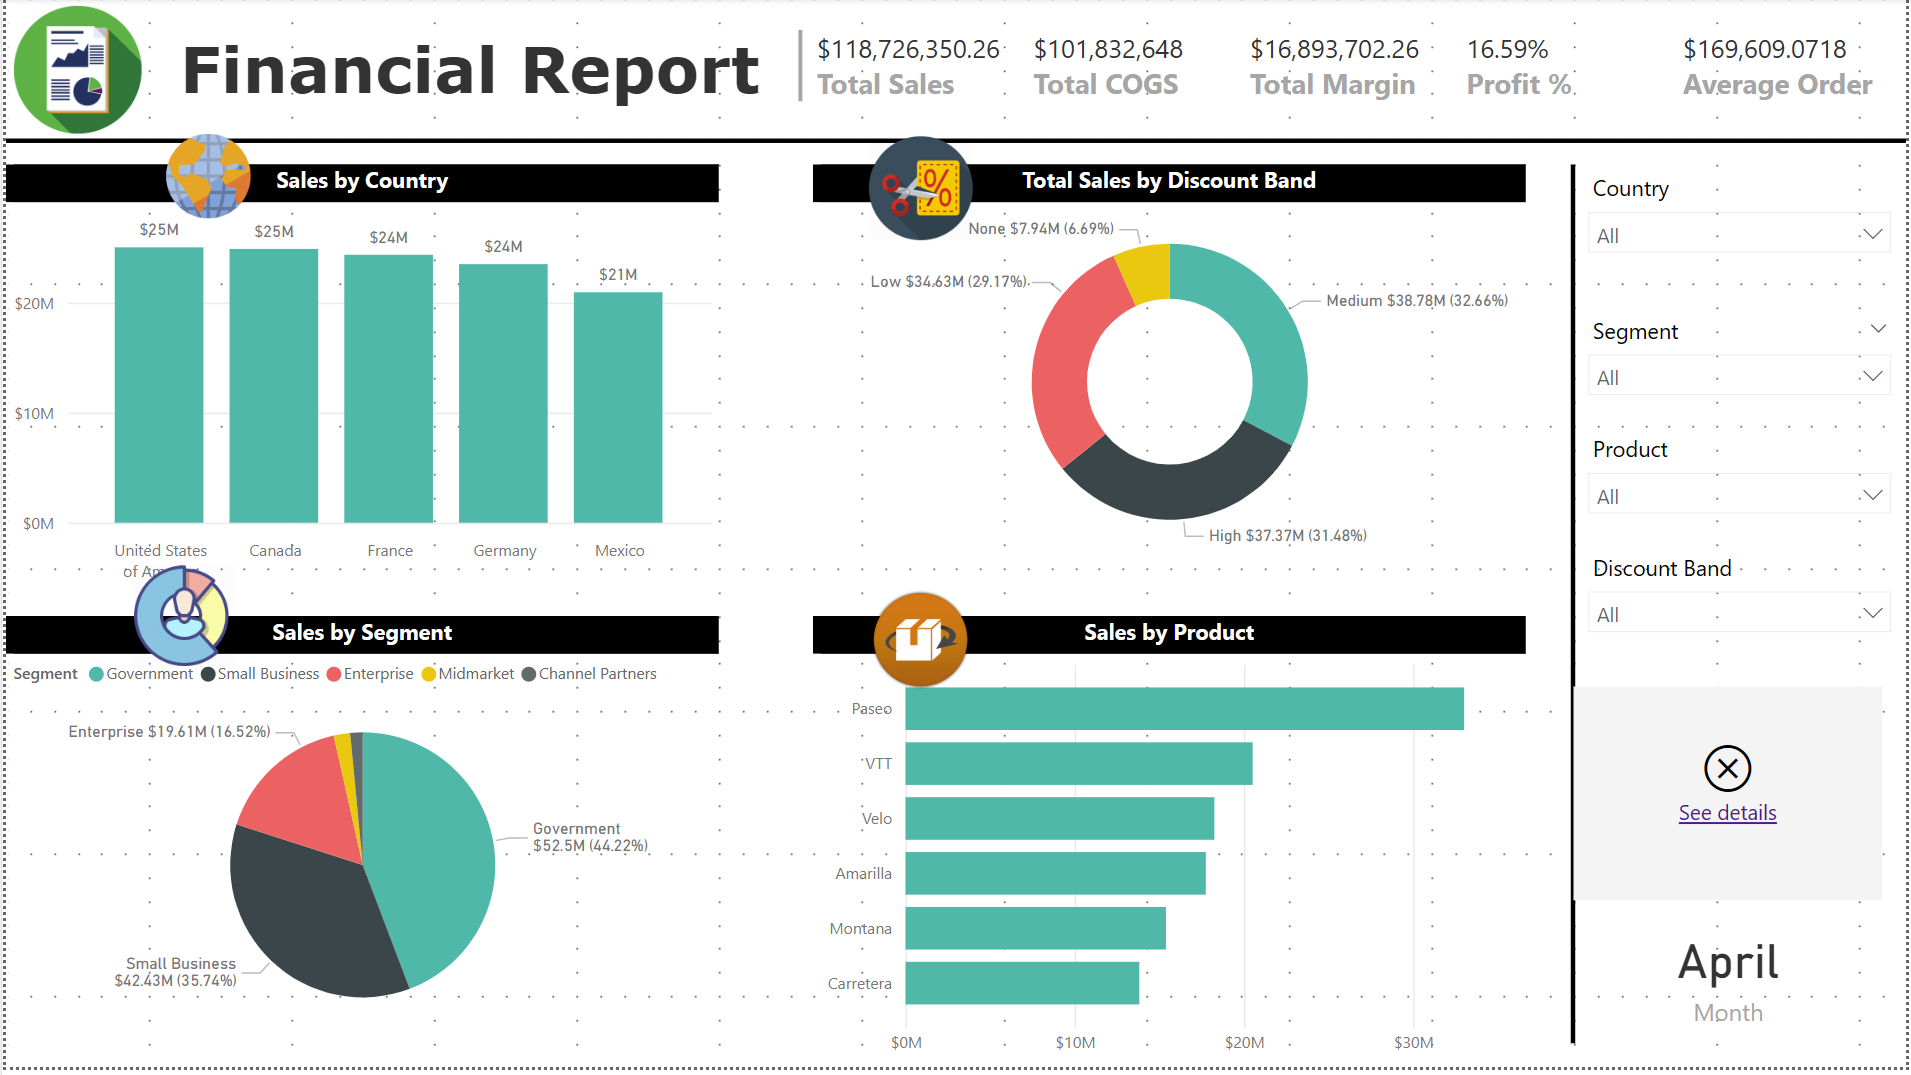

This screenshot's page, from the dashboard's own definition file:
{"tool":"powerbi","page":{"name":"Report 1","canvas":[1280,720],"ordinal":0},"visuals":[{"type":"textbox","box":[112,16,416,64],"z":0},{"type":"image","box":[0,0,96,96],"z":1000},{"type":"multiRowCard","fields":{"Values":["All Measures.Total Sales","All Measures.Total COGS","All Measures.Total Margin","All Measures.Profit %","All Measures.Average Order"]},"box":[528,16,752,64],"z":2000},{"type":"shape","box":[0,16,1280,160],"z":3000},{"type":"columnChart","title":"Sales by Country","fields":{"Category":["financials.Country"],"Y":["All Measures.Total Sales"]},"box":[0,112,480,288],"z":4000},{"type":"slicer","fields":{"Values":["financials.Country"]},"box":[1056,112,224,96],"z":5000},{"type":"pieChart","title":"Sales by Segment","fields":{"Category":["financials.Segment"],"Y":["All Measures.Total Sales"]},"box":[0,416,480,288],"z":6000},{"type":"clusteredBarChart","title":"Sales by Product","fields":{"Category":["financials.Product"],"Y":["All Measures.Total Sales"]},"box":[544,416,480,304],"z":7000},{"type":"donutChart","fields":{"Category":["financials.Discount Band"],"Y":["All Measures.Total Sales"]},"box":[544,112,480,272],"z":8000},{"type":"slicer","fields":{"Values":["financials.Segment"]},"box":[1056,208,224,80],"z":9000},{"type":"slicer","fields":{"Values":["financials.Product"]},"box":[1056,288,224,64],"z":10000},{"type":"slicer","fields":{"Values":["financials.Discount Band"]},"box":[1056,368,224,80],"z":11000},{"type":"shape","box":[1024,112,64,592],"z":12000},{"type":"PBI_CV_16948668_E17D_454B_8664_2F2C470EA8C1","fields":{"category":["Date.Date.Variation.Date Hierarchy.Year","Date.Date.Variation.Date Hierarchy.Month"]},"box":[1056,464,208,144],"z":13000},{"type":"card","fields":{"Values":["Min(Date.Date.Variation.Date Hierarchy.Month)"]},"box":[1056,608,208,96],"z":14000},{"type":"image","box":[96,64,80,112],"z":15000},{"type":"image","box":[576,80,80,96],"z":16000},{"type":"image","box":[80,368,80,96],"z":17000},{"type":"image","box":[576,384,80,96],"z":18000}]}

Visuals, with their boxes in screenshot pixels (x1, y1, x2, y2), scaled from the page's 1280x720 canvas onto the 1911x1075 screenshot:
textbox: <bbox>167, 24, 788, 119</bbox>
image: <bbox>0, 0, 143, 143</bbox>
multiRowCard - All Measures.Total Sales x All Measures.Total COGS: <bbox>788, 24, 1910, 119</bbox>
shape: <bbox>0, 24, 1910, 263</bbox>
"Sales by Country" columnChart: <bbox>0, 167, 717, 597</bbox>
slicer - financials.Country: <bbox>1577, 167, 1910, 311</bbox>
"Sales by Segment" pieChart: <bbox>0, 621, 717, 1051</bbox>
"Sales by Product" clusteredBarChart: <bbox>812, 621, 1529, 1074</bbox>
donutChart - financials.Discount Band x All Measures.Total Sales: <bbox>812, 167, 1529, 573</bbox>
slicer - financials.Segment: <bbox>1577, 311, 1910, 430</bbox>
slicer - financials.Product: <bbox>1577, 430, 1910, 526</bbox>
slicer - financials.Discount Band: <bbox>1577, 549, 1910, 669</bbox>
shape: <bbox>1529, 167, 1624, 1051</bbox>
PBI_CV_16948668_E17D_454B_8664_2F2C470EA8C1 - Date.Date.Variation.Date Hierarchy.Year x Date.Date.Variation.Date Hierarchy.Month: <bbox>1577, 693, 1887, 908</bbox>
card - Min(Date.Date.Variation.Date Hierarchy.Month): <bbox>1577, 908, 1887, 1051</bbox>
image: <bbox>143, 96, 263, 263</bbox>
image: <bbox>860, 119, 979, 263</bbox>
image: <bbox>119, 549, 239, 693</bbox>
image: <bbox>860, 573, 979, 717</bbox>
